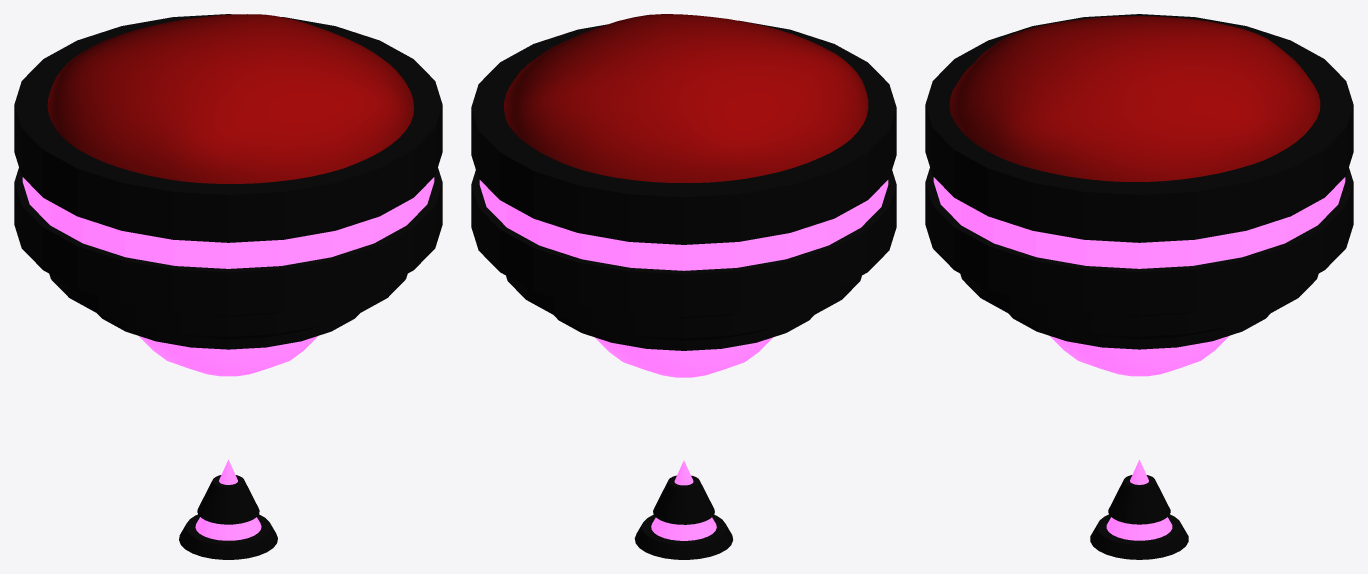
Rendered from B_stoolfloat_ low_Jan12.fbx.
The picture shows the model from 3 angles, left to right: view 1: azimuth 30°, elevation 25°; view 2: azimuth 150°, elevation 25°; view 3: azimuth 270°, elevation 25°; orthographic projection.
Parts seen in each view (by area): view 1: chair_2_ low; view 2: chair_2_ low; view 3: chair_2_ low.
Boxes of the visible parts, bbox=[...] form: chair_2_ low: bbox=[14, 14, 442, 559]; chair_2_ low: bbox=[471, 14, 896, 559]; chair_2_ low: bbox=[925, 14, 1353, 559].
Size of the model in its own units: 66.24 by 82.41 by 66.24.
